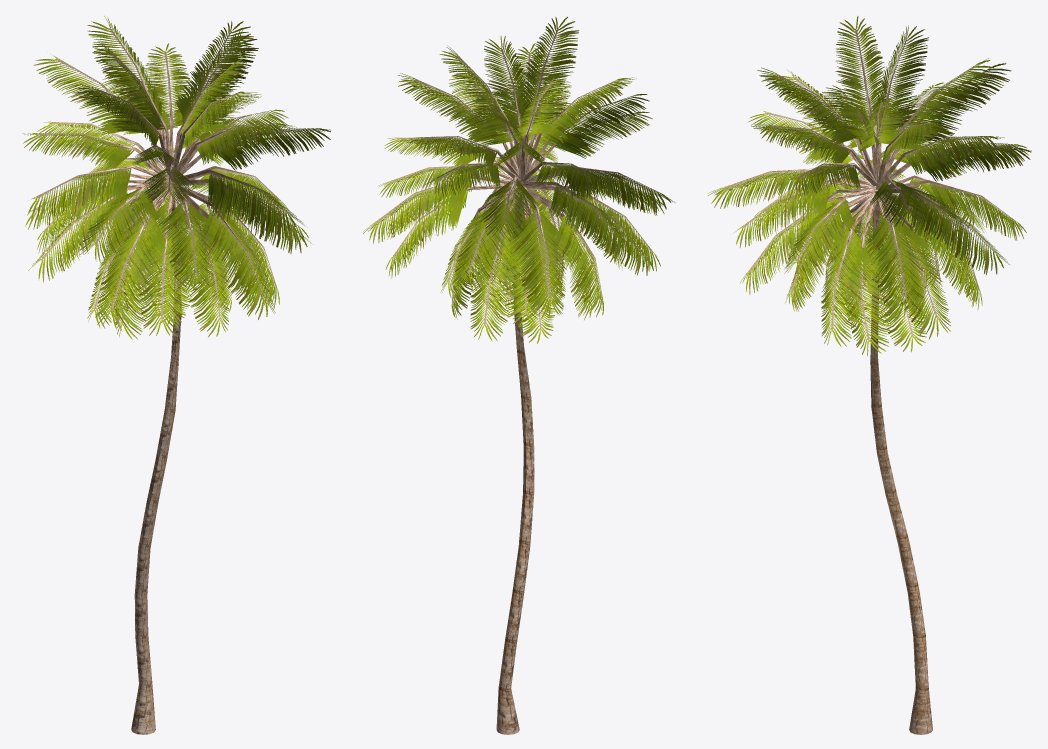
File: palm-slim.glb
The picture shows the model from 3 angles, left to right: view 1: azimuth 30°, elevation 25°; view 2: azimuth 150°, elevation 25°; view 3: azimuth 270°, elevation 25°; orthographic projection. The views are drawn at different scales.
Parts seen in each view (by area): view 1: Tree_1, Tree_0; view 2: Tree_1, Tree_0; view 3: Tree_1, Tree_0.
Boxes of the visible parts, <box> form: Tree_1: <box>22,16,330,339</box>; Tree_0: <box>77,68,261,734</box>; Tree_1: <box>363,16,674,343</box>; Tree_0: <box>416,71,620,734</box>; Tree_1: <box>707,16,1031,356</box>; Tree_0: <box>772,70,978,734</box>.
Size of the model in its own units: 2.57 by 6 by 2.6.
Materials: 2 (2 with a texture image).
